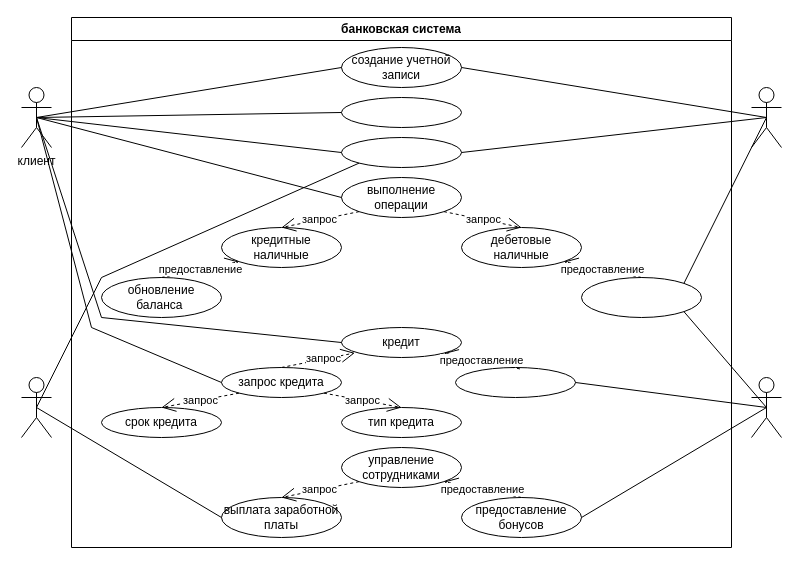
Some shapes in this 811 by 565 pixel diagram are drawn without their labels. Each missing label, with the box of its shape:
банк: (750, 86, 782, 148)
кассир: (20, 376, 52, 438)
менеджер: (750, 376, 782, 438)
одобрение займа: (454, 366, 576, 398)
перевод средств: (340, 136, 462, 168)
проверка балланса: (340, 96, 462, 128)
проверка размеров процентов: (580, 276, 702, 318)
